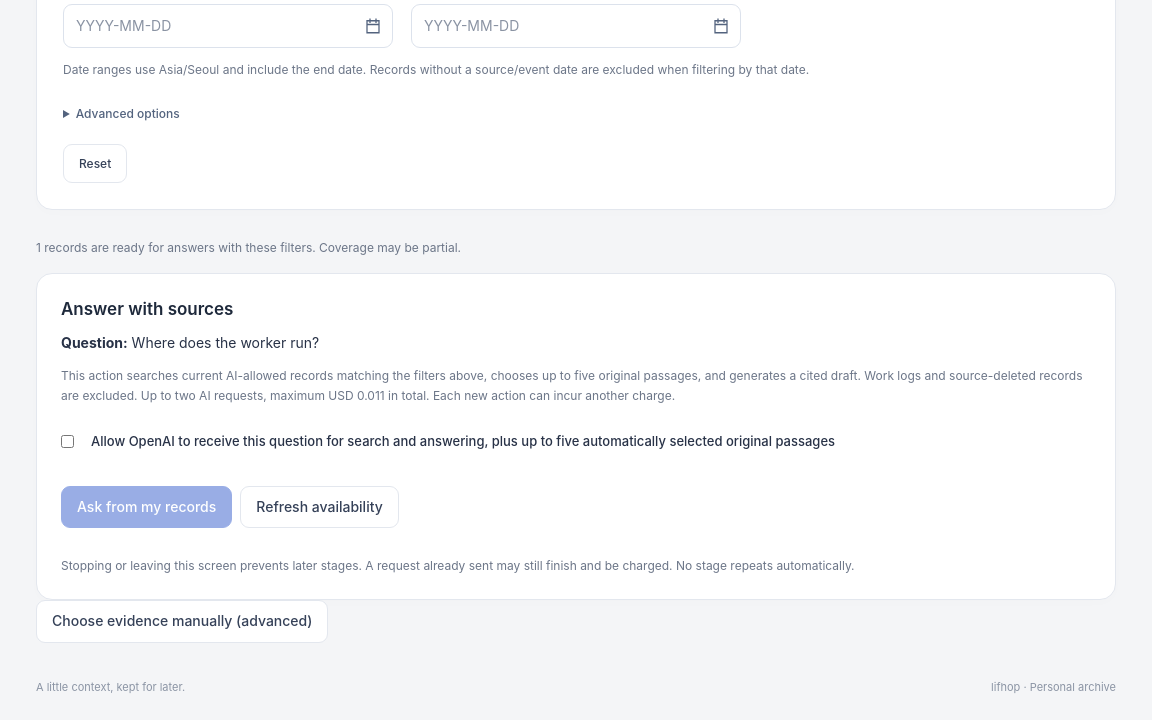
Test: shows insufficient evidence without citations
(page scrolled)
Check: the button "Ask from my records" is shown, box [61,486,232,528]
Click the checkbox named "Allow OpenAI to receive this question for search and answering, plus up to five automatically selected original passages" at {"x": 68, "y": 441}, box [61,433,74,450]
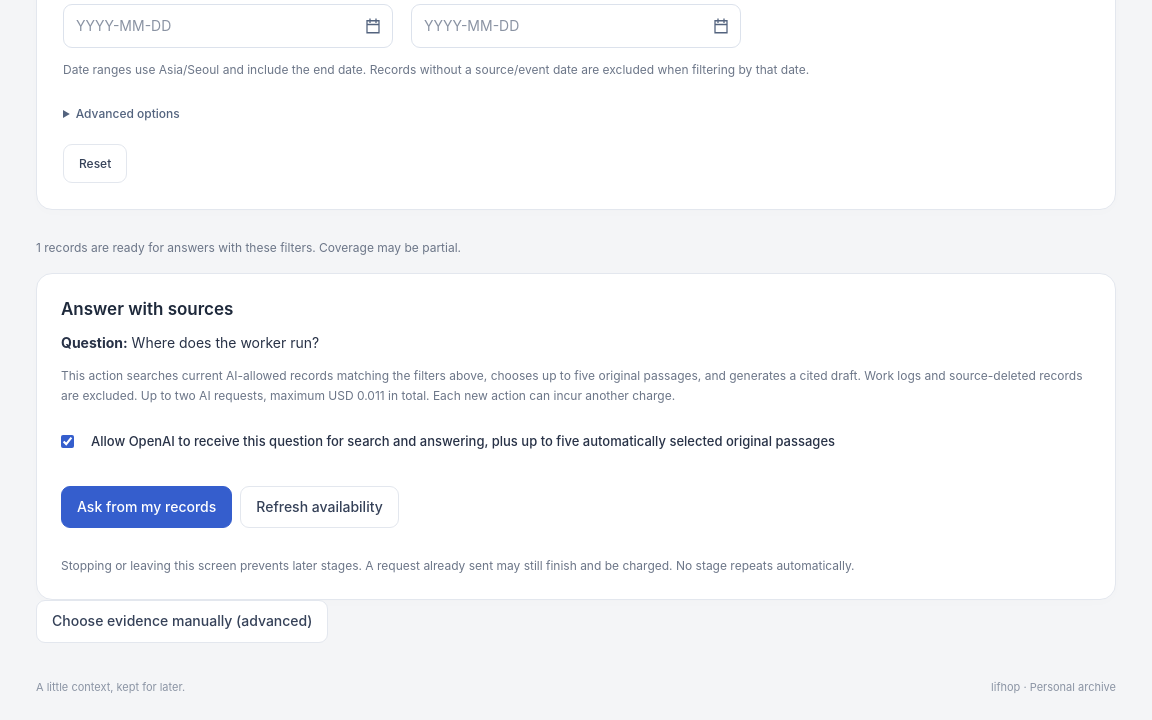
Click the button "Ask from my records" at {"x": 147, "y": 507}, box [61,486,232,528]
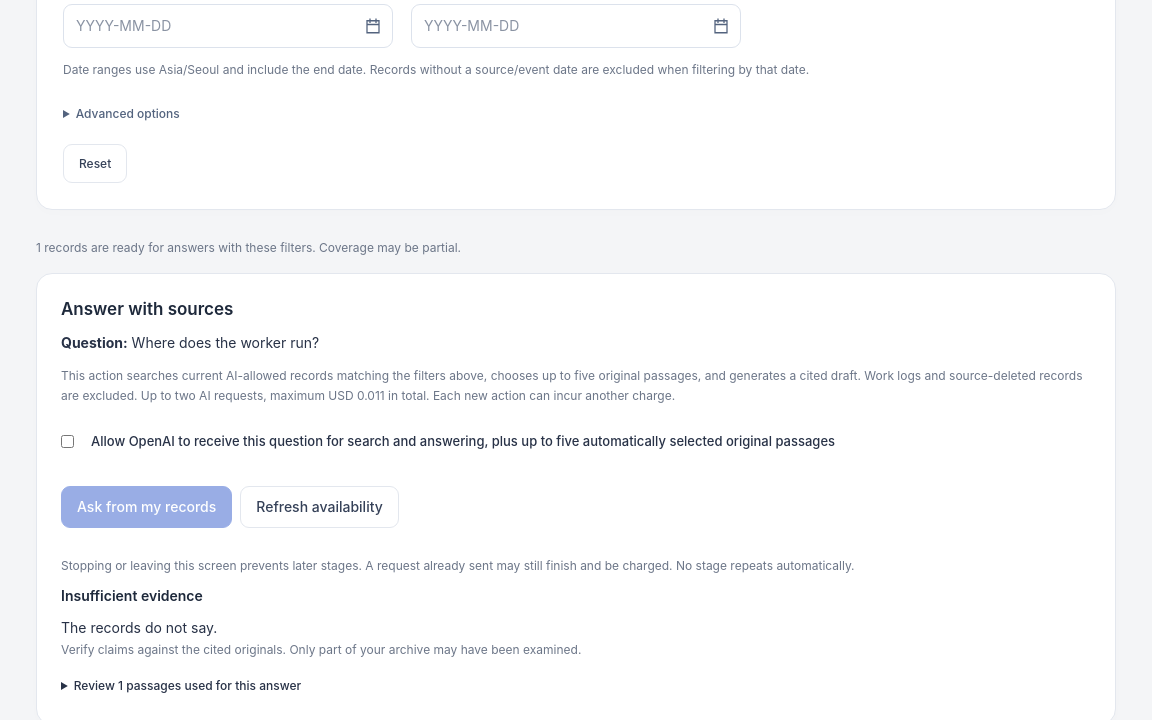
Check: the text "The records do not say." is shown, box [61,619,217,636]
Check: the heading "Insufficient evidence" is shown, box [61,587,203,604]
